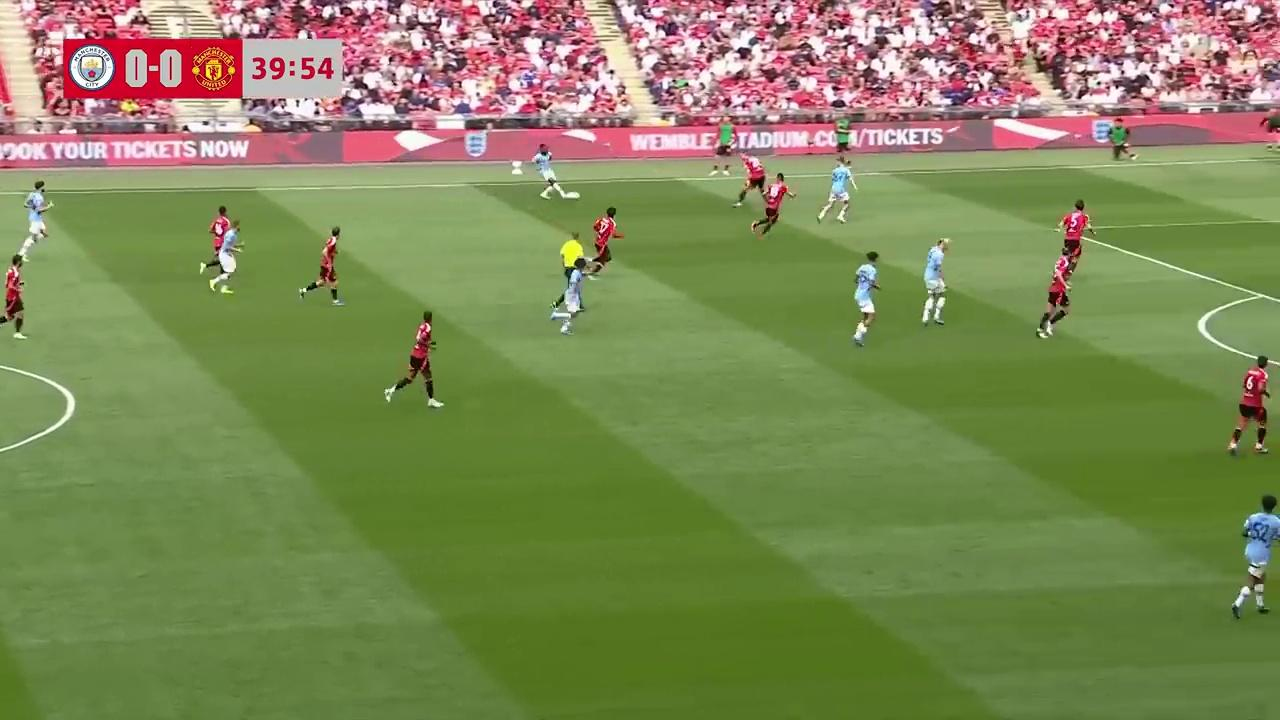ball: (566, 188, 582, 204)
player: (1231, 492, 1280, 619), (385, 311, 442, 409), (1225, 355, 1273, 457), (298, 227, 343, 307), (1036, 252, 1073, 339), (550, 259, 587, 335), (852, 252, 881, 348), (1057, 199, 1093, 272), (921, 237, 949, 327), (816, 158, 854, 224), (203, 230, 241, 294), (753, 175, 788, 238), (591, 206, 623, 274), (0, 256, 26, 339), (206, 205, 237, 274), (23, 180, 51, 246), (734, 156, 767, 207), (536, 146, 564, 199), (825, 155, 857, 192)
referee: (558, 233, 590, 282)
